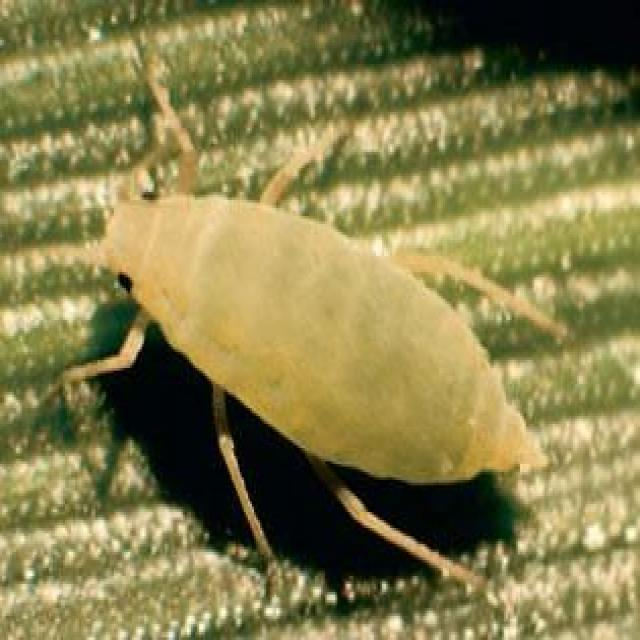Aphid-Grown-: (66, 136, 582, 570)
